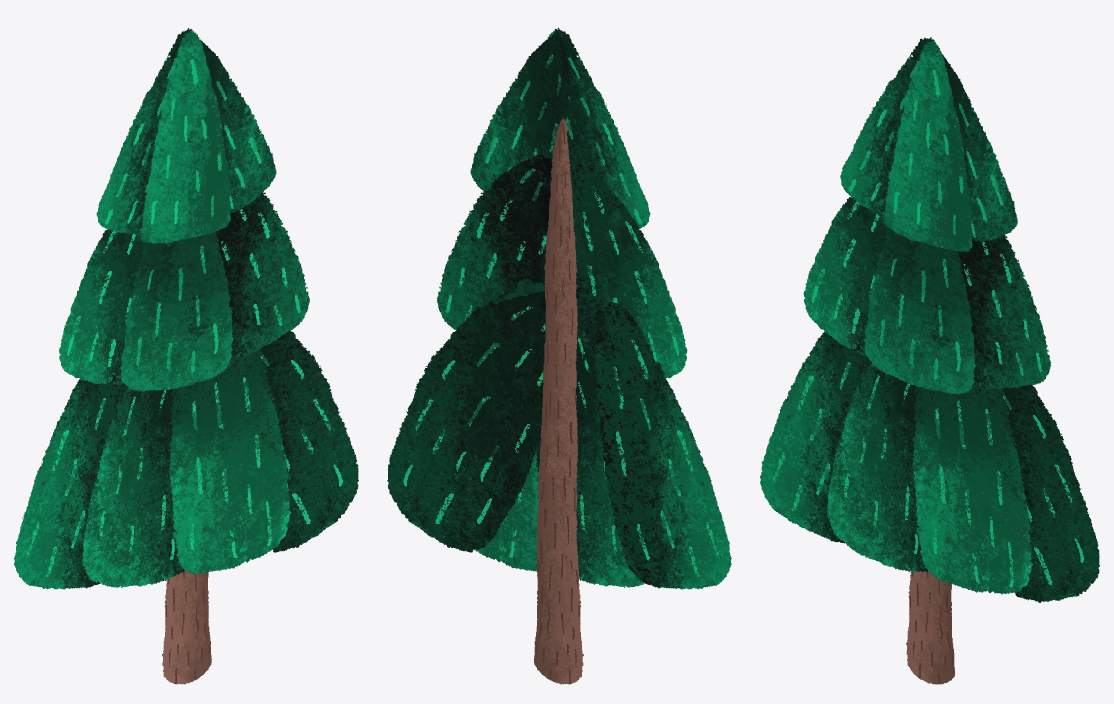
Rendered from tree_5.glb.
The picture shows the model from 3 angles, left to right: view 1: azimuth 30°, elevation 25°; view 2: azimuth 150°, elevation 25°; view 3: azimuth 330°, elevation 25°; orthographic projection.
Parts seen in each view (by area): view 1: tree_5_green_4, tree_5_green_2, tree_5_green_7, tree_5_green_10, tree_5_green_1, tree_5_green_3, tree_5_green_6, tree_5_green_5, tree_5_green_9, tree_5_green_8, tree_5_stem; view 2: tree_5_green_3, tree_5_green_1, tree_5_stem, tree_5_green_5, tree_5_green_6, tree_5_green_2, tree_5_green_8, tree_5_green_9, tree_5_green_4; view 3: tree_5_green_4, tree_5_green_2, tree_5_green_7, tree_5_green_10, tree_5_green_3, tree_5_green_1, tree_5_green_6, tree_5_green_5, tree_5_green_9, tree_5_green_8, tree_5_stem.
Part boxes in pixels (bbox=[...]): tree_5_green_4: bbox=[169, 349, 291, 574]; tree_5_green_2: bbox=[82, 384, 184, 587]; tree_5_green_7: bbox=[120, 231, 232, 391]; tree_5_green_10: bbox=[140, 29, 231, 243]; tree_5_green_1: bbox=[14, 378, 120, 589]; tree_5_green_3: bbox=[260, 330, 358, 552]; tree_5_green_6: bbox=[216, 191, 309, 361]; tree_5_green_5: bbox=[59, 229, 145, 385]; tree_5_green_9: bbox=[96, 28, 191, 234]; tree_5_green_8: bbox=[199, 39, 276, 213]; tree_5_stem: bbox=[162, 570, 211, 684]; tree_5_green_3: bbox=[387, 291, 545, 552]; tree_5_green_1: bbox=[592, 301, 731, 589]; tree_5_stem: bbox=[534, 118, 583, 684]; tree_5_green_5: bbox=[570, 160, 687, 378]; tree_5_green_6: bbox=[436, 155, 574, 330]; tree_5_green_2: bbox=[536, 297, 644, 587]; tree_5_green_8: bbox=[470, 34, 570, 191]; tree_5_green_9: bbox=[551, 27, 650, 228]; tree_5_green_4: bbox=[475, 278, 544, 571]; tree_5_green_4: bbox=[912, 374, 1033, 594]; tree_5_green_2: bbox=[826, 357, 929, 572]; tree_5_green_7: bbox=[863, 228, 974, 394]; tree_5_green_10: bbox=[882, 40, 972, 251]; tree_5_green_3: bbox=[1002, 384, 1099, 602]; tree_5_green_1: bbox=[760, 332, 864, 543]; tree_5_green_6: bbox=[958, 235, 1051, 407]; tree_5_green_5: bbox=[803, 197, 888, 357]; tree_5_green_9: bbox=[840, 37, 934, 217]; tree_5_green_8: bbox=[941, 53, 1017, 241]; tree_5_stem: bbox=[906, 570, 954, 684].
Bounding box in the file's own units: 2.25 × 4.1 × 0.0082.
Materials: 11 (11 with a texture image).
